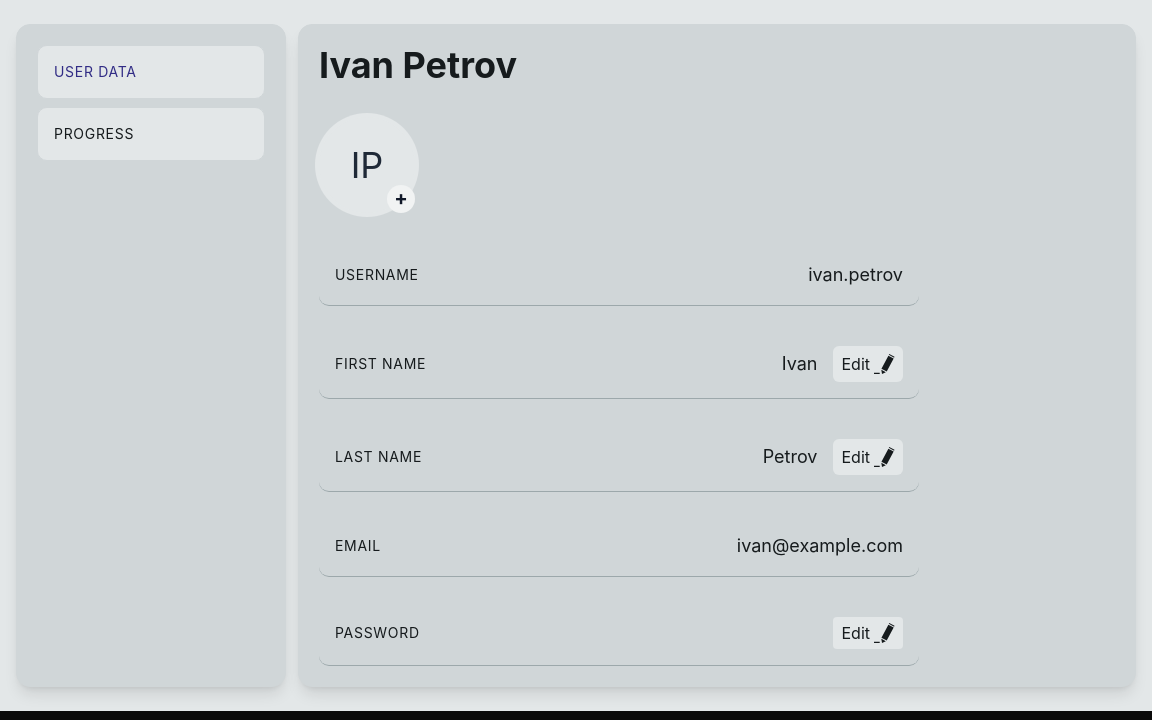
prefills input with current value
The image size is (1152, 720).
Click the button "Edit" in the row of "First Name": (868, 364) [834,346,903,382]
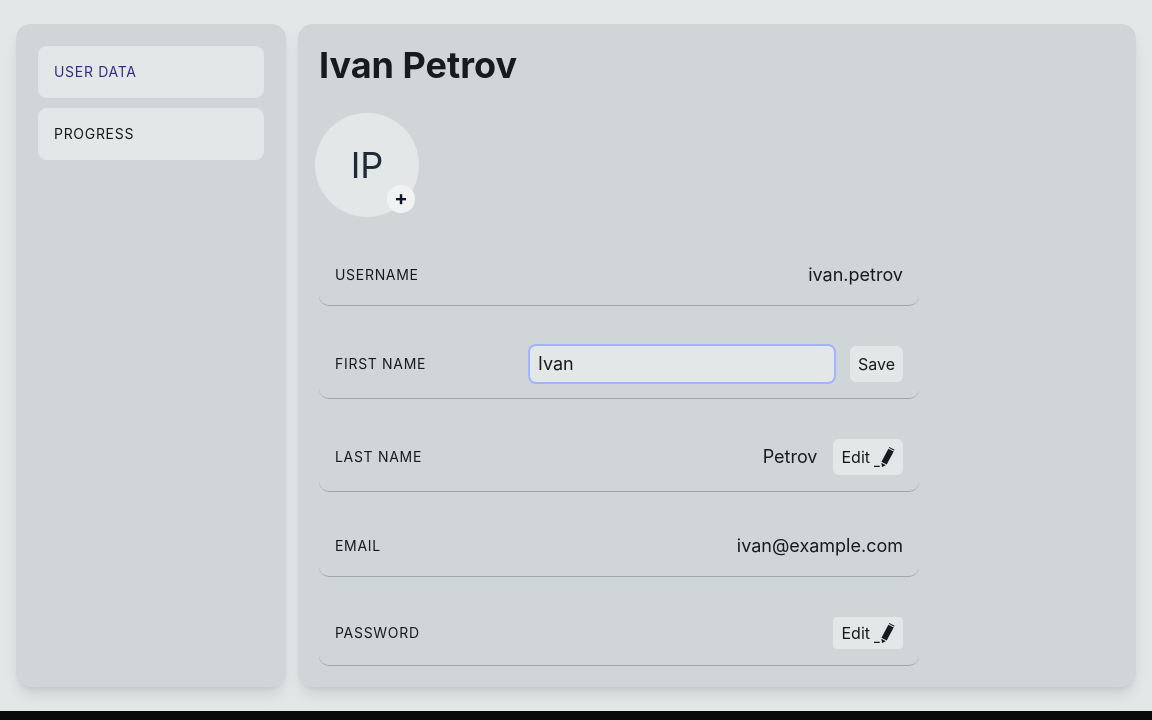
Check: the field holds "Ivan", box [530,346,834,382]
